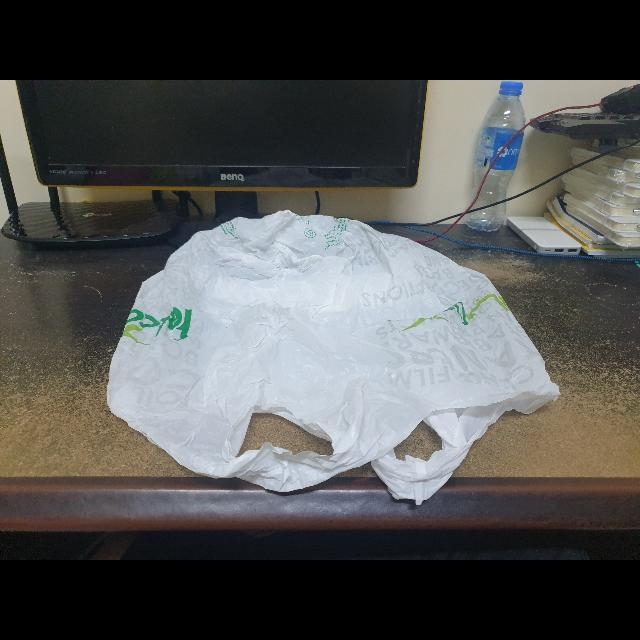plastic_bag: (96, 196, 570, 514)
